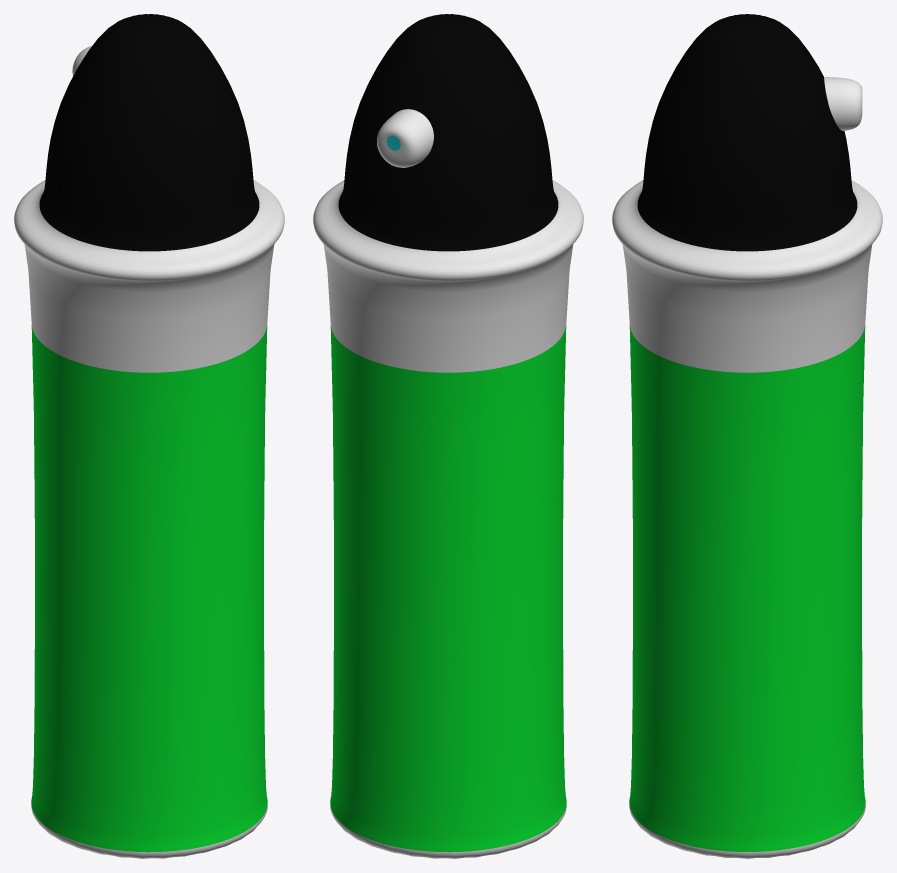
The model's file is spraycan.fbx.
The picture shows the model from 3 angles, left to right: view 1: azimuth 30°, elevation 25°; view 2: azimuth 150°, elevation 25°; view 3: azimuth 270°, elevation 25°; orthographic projection.
Parts seen in each view (by area): view 1: Circle; view 2: Circle; view 3: Circle.
Boxes of the visible parts, <box> form: Circle: <box>14,14,284,858</box>; Circle: <box>313,14,583,858</box>; Circle: <box>612,14,882,858</box>.
Size of the model in its own units: 236 by 767 by 236.
